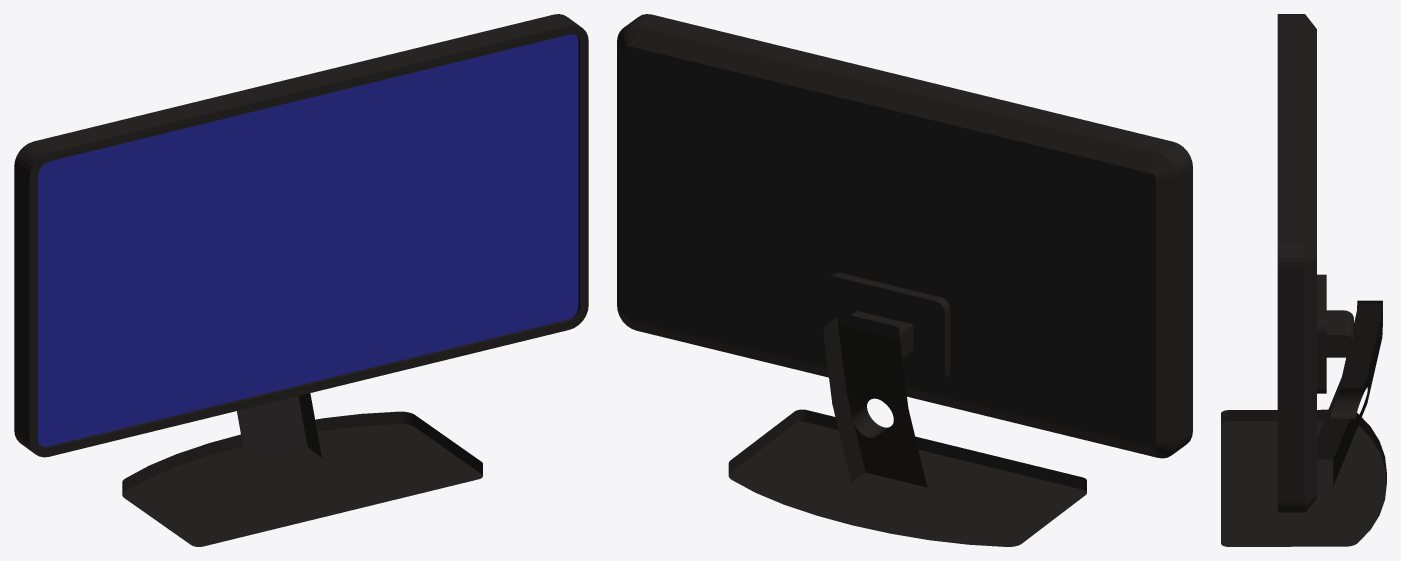
The model's file is monitor.glb.
3 renders of one model, left to right at view 1: azimuth 30°, elevation 25°; view 2: azimuth 150°, elevation 25°; view 3: azimuth 270°, elevation 25°, orthographic. The views are drawn at different scales.
Parts seen in each view (by area): view 1: BlackScreen, Stand, Screen; view 2: Screen, Stand, Holder; view 3: Stand, Screen, Holder.
Boxes of the visible parts, left/top/right/bottom form: BlackScreen: left=38, top=34, right=578, bottom=446; Stand: left=122, top=393, right=482, bottom=546; Screen: left=14, top=14, right=588, bottom=457; Screen: left=617, top=14, right=1192, bottom=458; Stand: left=728, top=313, right=1086, bottom=546; Holder: left=825, top=272, right=950, bottom=384; Stand: left=1221, top=300, right=1386, bottom=546; Screen: left=1277, top=14, right=1316, bottom=512; Holder: left=1317, top=274, right=1353, bottom=393.
Bounding box in the file's own units: 3.85 × 2.64 × 1.11.
